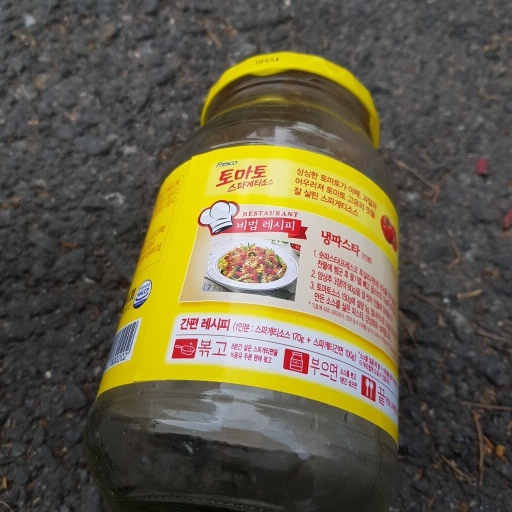Glass_5: (91, 51, 405, 507)
